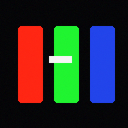3 line_h: (49, 56, 71, 62)
